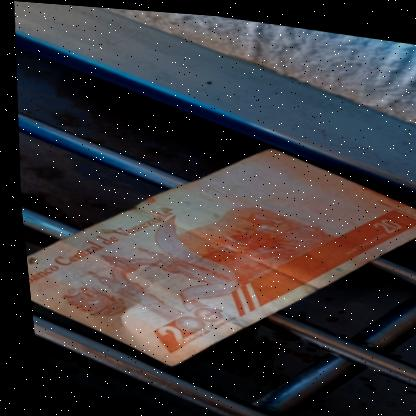twenty-back-vef: (9, 110, 416, 400)
